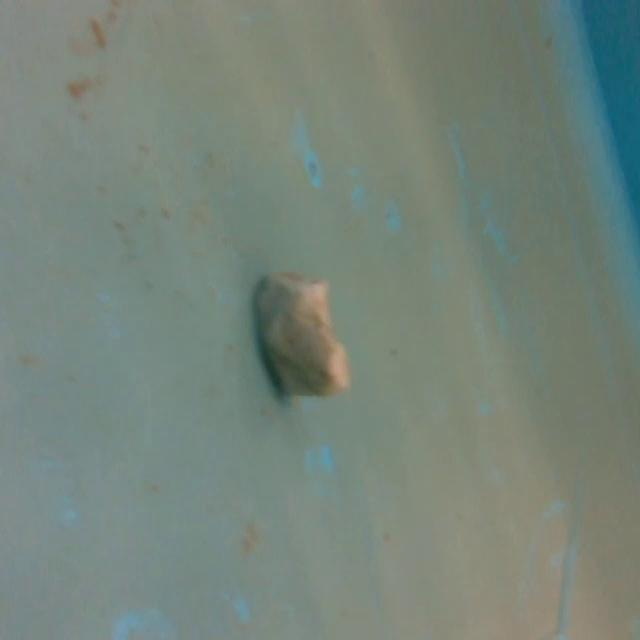rock: (252, 263, 355, 405)
